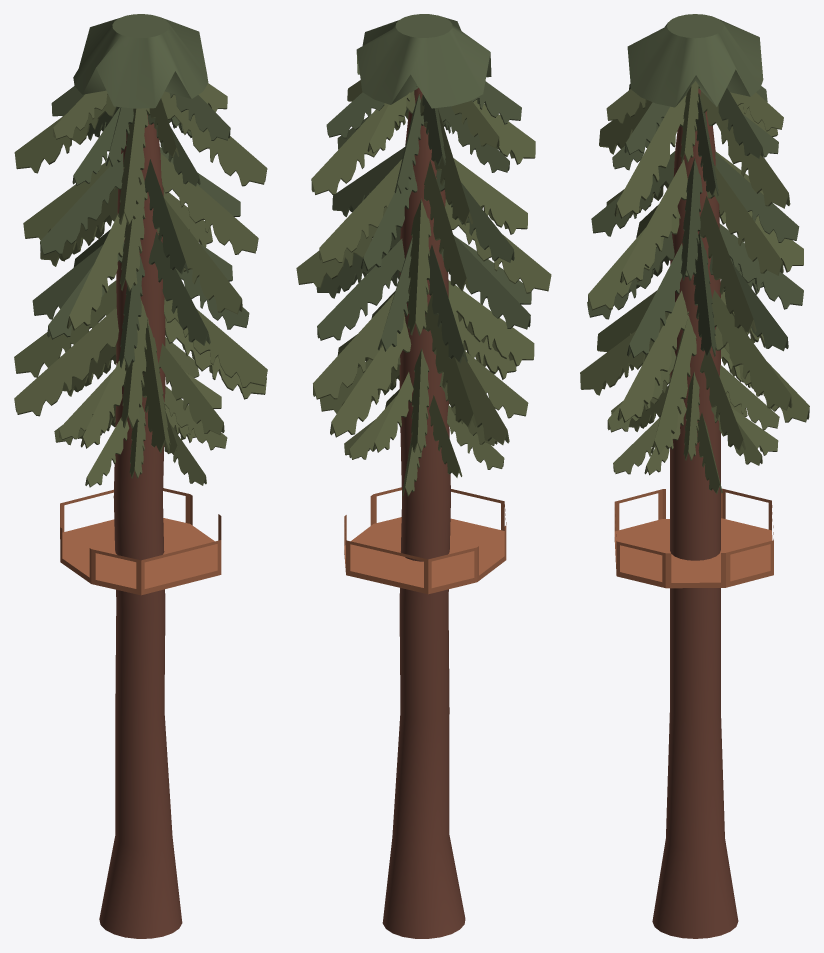
Rendered from tree_platform.fbx.
The picture shows the model from 3 angles, left to right: view 1: azimuth 30°, elevation 25°; view 2: azimuth 150°, elevation 25°; view 3: azimuth 270°, elevation 25°; orthographic projection.
Visible parts, largest first — view 1: trunk, pCube5 (×13), pCube3 (×14), pCube6 (×8), pCylinder5, pCylinder8, pCube4 (×4); view 2: trunk, pCube4 (×14), pCube5 (×14), pCylinder5, pCube6 (×6), pCube3 (×5), pCylinder8; view 3: trunk, pCube6 (×15), pCube4 (×12), pCube3 (×12), pCylinder5, pCylinder8, pCube5.
Boxes of the visible parts, box(x1,y1,x2,y2) form: trunk: box(99, 115, 182, 938); pCube5 (×13): box(14, 90, 144, 448); pCube3 (×14): box(85, 93, 249, 487); pCube6 (×8): box(160, 91, 267, 485); pCylinder5: box(73, 14, 208, 108); pCylinder8: box(60, 488, 221, 595); pCube4 (×4): box(32, 86, 117, 396); trunk: box(382, 87, 465, 938); pCube4 (×14): box(311, 85, 467, 459); pCube5 (×14): box(402, 81, 551, 496); pCylinder5: box(356, 14, 491, 108); pCube6 (×6): box(296, 92, 404, 413); pCube3 (×5): box(447, 99, 535, 469); pCylinder8: box(344, 487, 506, 594); trunk: box(652, 88, 738, 938); pCube6 (×15): box(613, 81, 788, 475); pCube4 (×12): box(697, 91, 809, 493); pCube3 (×12): box(580, 89, 688, 432); pCylinder5: box(627, 14, 763, 107); pCylinder8: box(614, 488, 773, 588); pCube5: box(731, 408, 778, 455).
Size of the model in its own units: 8.55 by 34.67 by 8.06.
